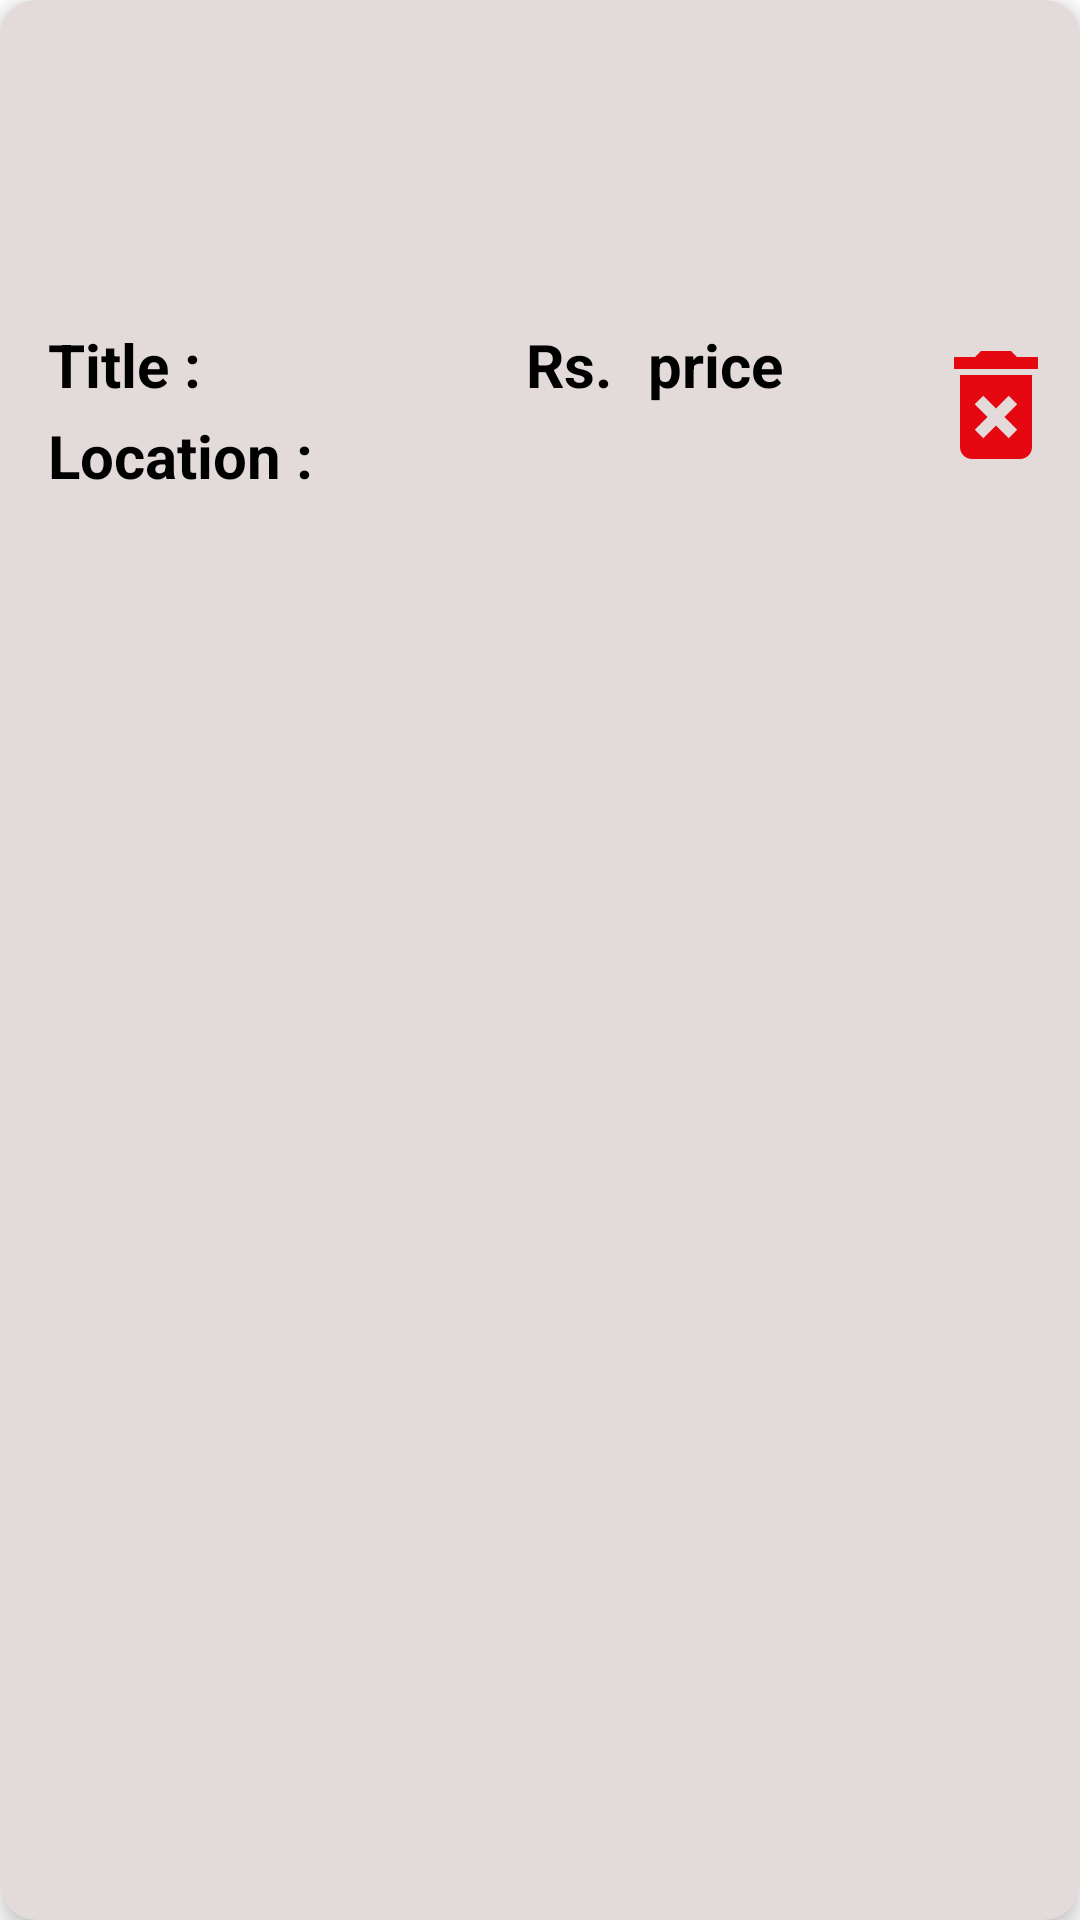

Locate icon controls on the screen. Image size 1080×1920, boxes as (x1, y1, x2, y2).
delete: (954, 351, 1038, 459)
